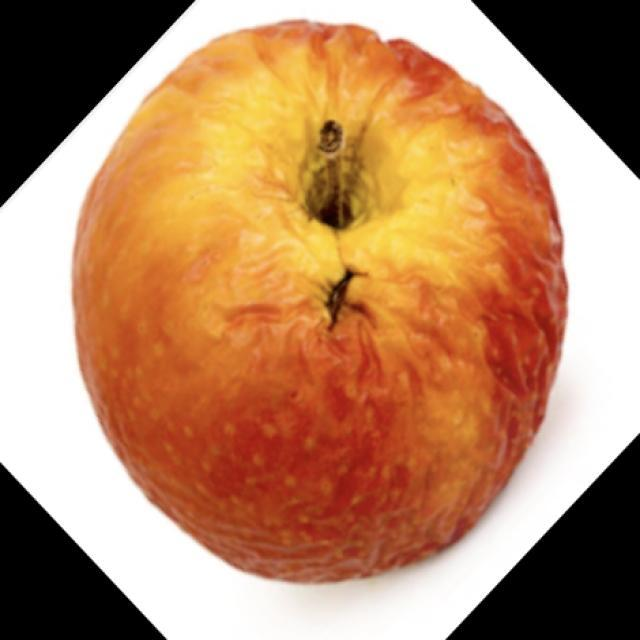Rotten: (86, 48, 536, 567)
